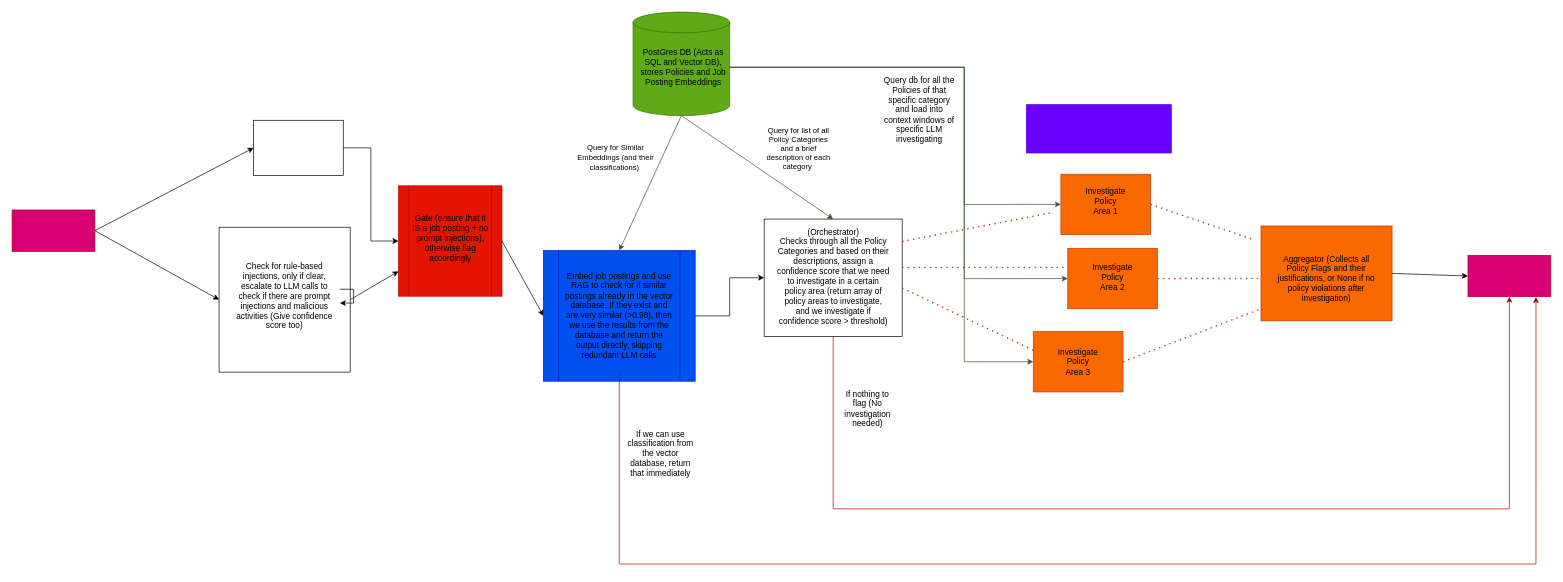
Some shapes in this 1563 by 582 pixel diagram are drawn without their labels. The centre of each missing label's shape, as x and y in pixels:
"Dynamically call LLMs in Parallel to investigate each policy area" goes at point (1098, 128).
"INPUT: Job Posting" goes at point (53, 230).
"Is it a Job Posting? (Give Confidence Score)" goes at point (298, 147).
"Output to Client" goes at point (1509, 276).
